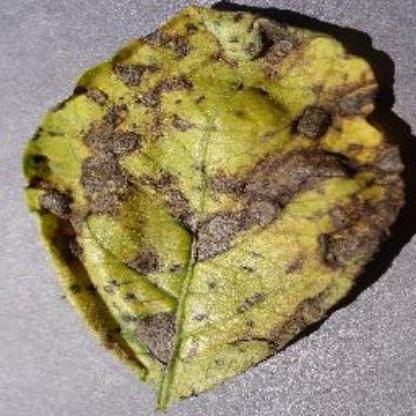Early-Blight: (23, 3, 409, 409)
